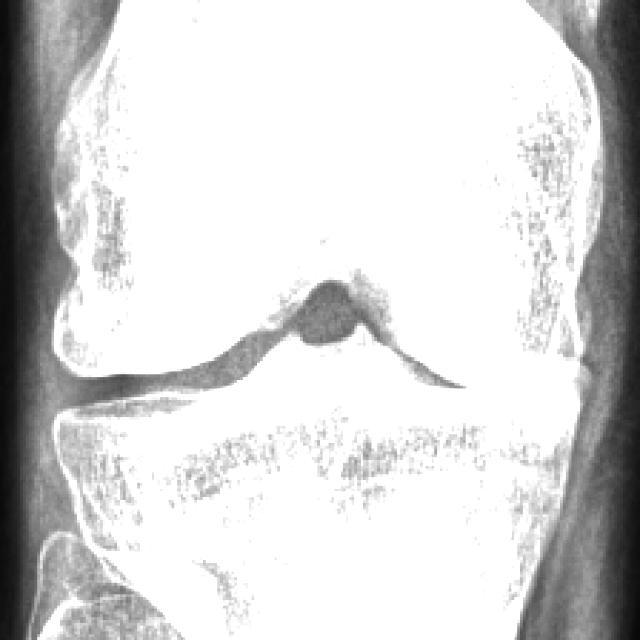femur: (51, 0, 604, 389)
tibia: (54, 331, 581, 640)
